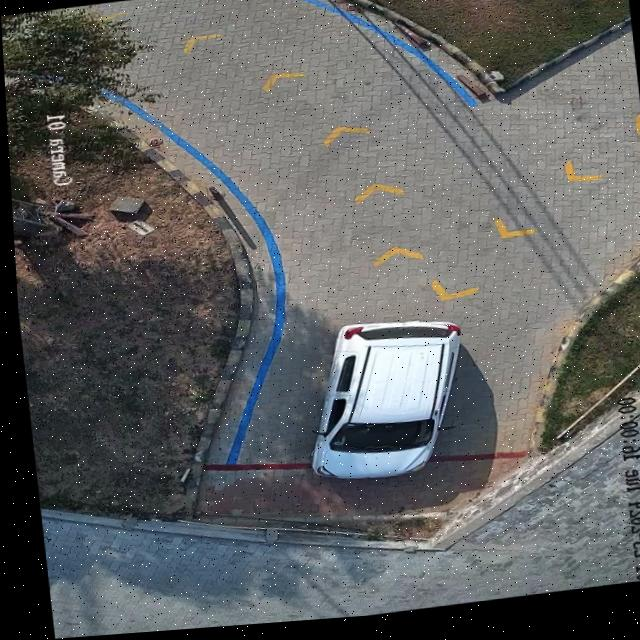car: (303, 325, 457, 486)
